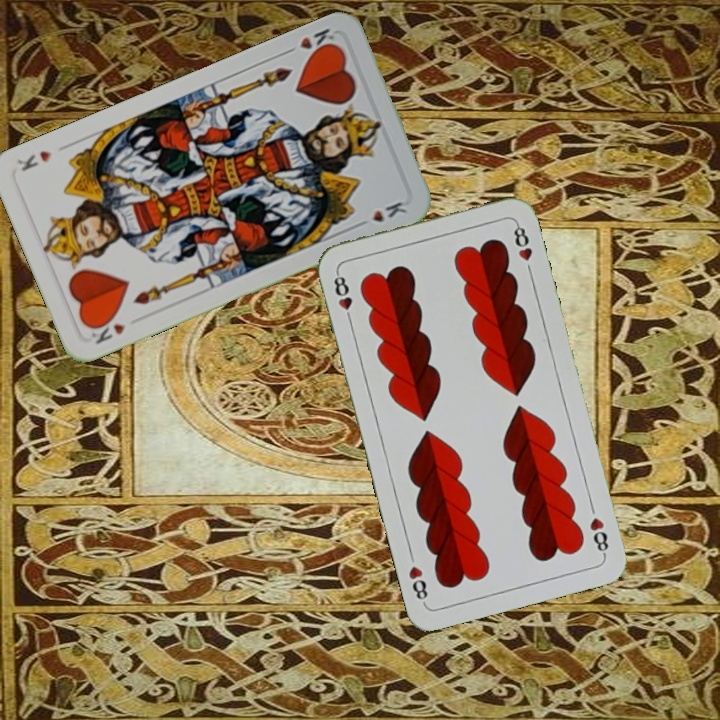H8: (329, 268, 355, 326), (585, 513, 611, 559)
HK: (295, 24, 340, 60), (83, 314, 128, 347)
